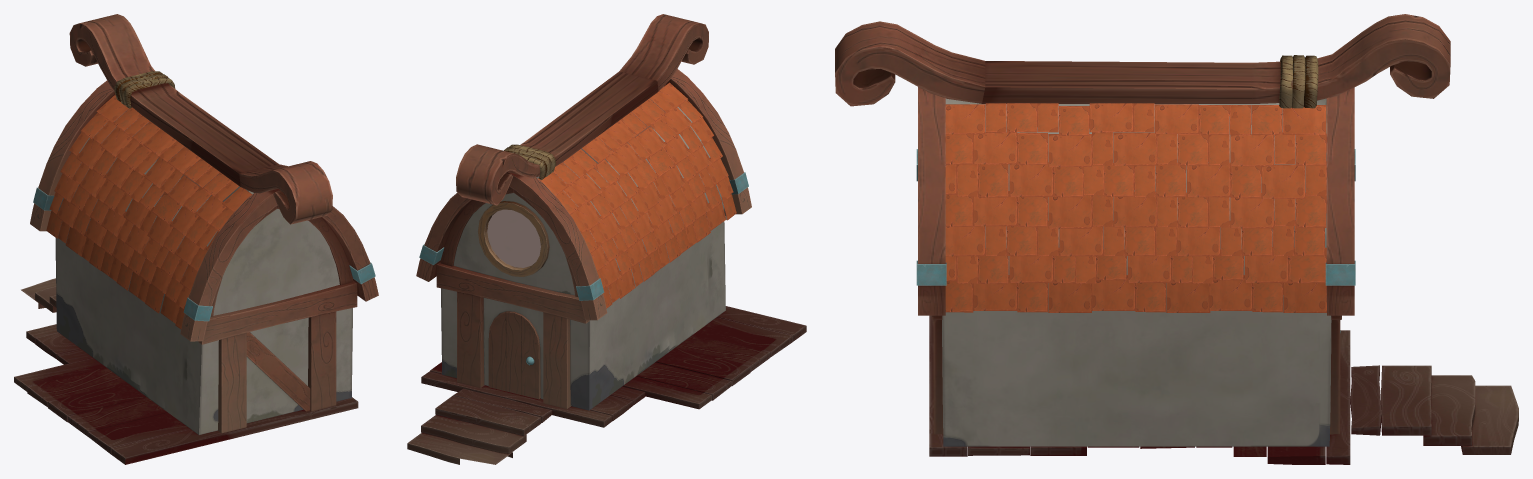
File: SM_House 1.fbx
3 views of the same model, side by side, from view 1: azimuth 30°, elevation 25°; view 2: azimuth 150°, elevation 25°; view 3: azimuth 270°, elevation 25° (orthographic). The views are drawn at different scales.
Parts seen in each view (by area): view 1: SM_House; view 2: SM_House; view 3: SM_House.
Part boxes in pixels (left/top/right/bottom): SM_House: left=14, top=14, right=378, bottom=464; SM_House: left=407, top=14, right=806, bottom=464; SM_House: left=835, top=14, right=1518, bottom=464.
Bounding box in the file's own units: 7.89 × 8.84 × 13.78.
